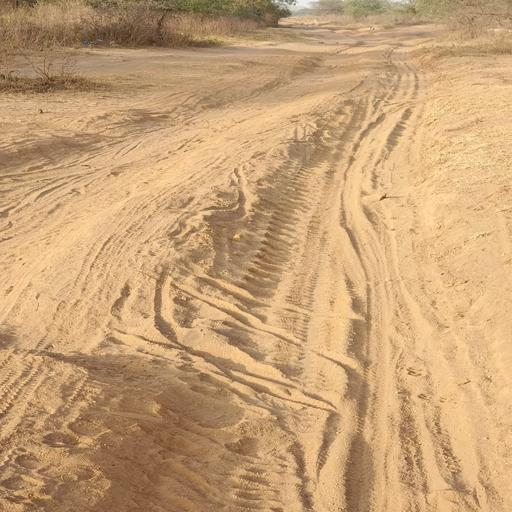vehicle_track: (200, 65, 439, 512), (0, 58, 346, 307)
